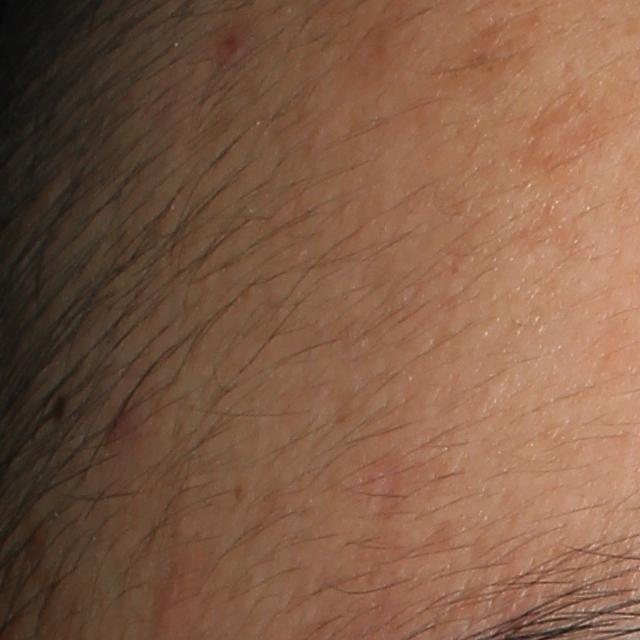nevus: (48, 391, 69, 425)
papule: (147, 578, 189, 632)
